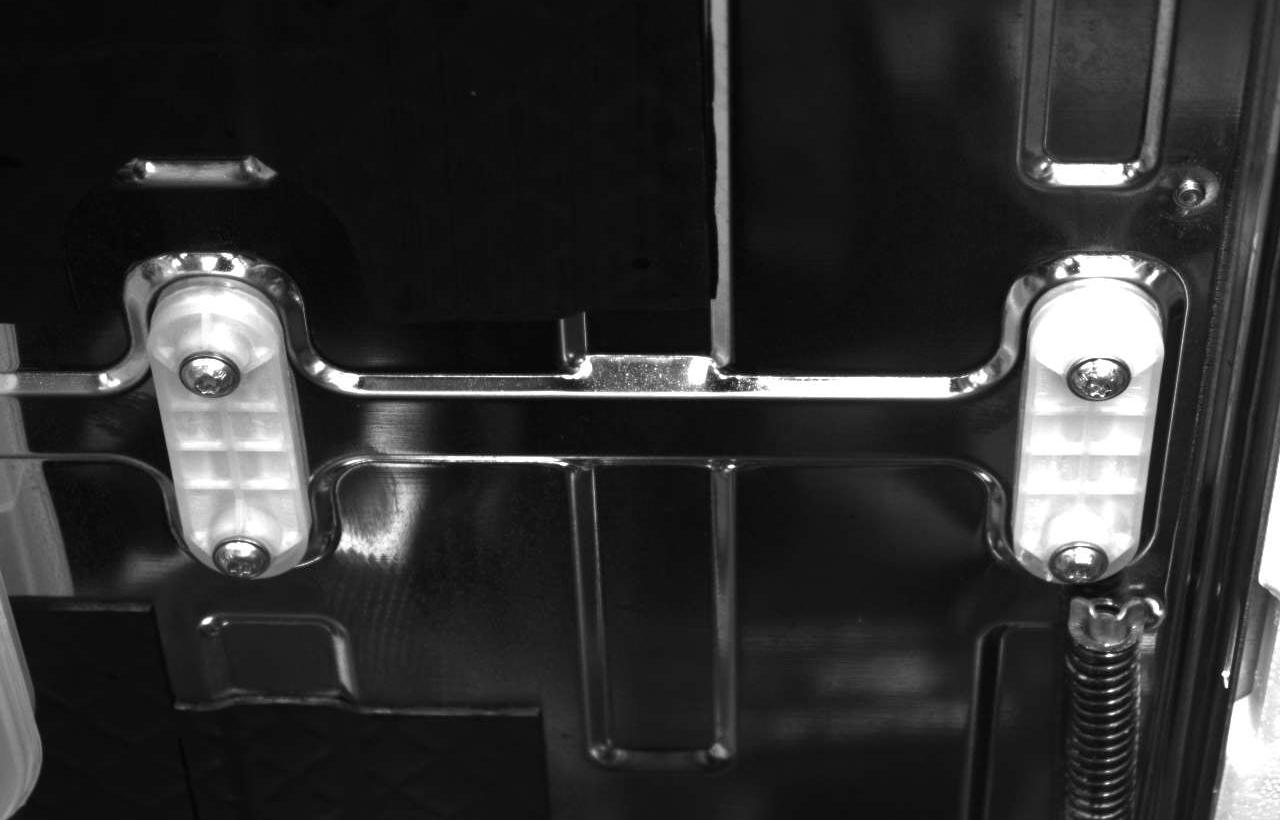vida-ok: (176, 344, 247, 411), (1067, 345, 1134, 412), (210, 529, 276, 588), (1043, 532, 1109, 591)
